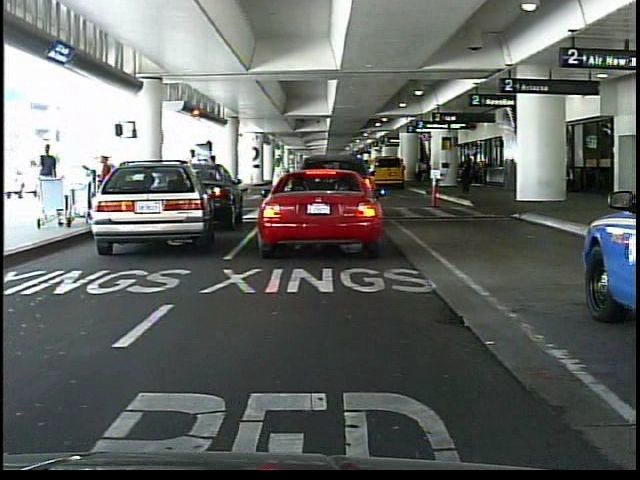person: (35, 141, 61, 221), (182, 147, 200, 224), (270, 153, 289, 205), (202, 154, 220, 204), (460, 155, 475, 195), (416, 155, 428, 188)
